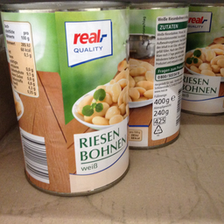beans: (3, 3, 131, 200), (134, 3, 187, 154), (189, 2, 224, 119)
